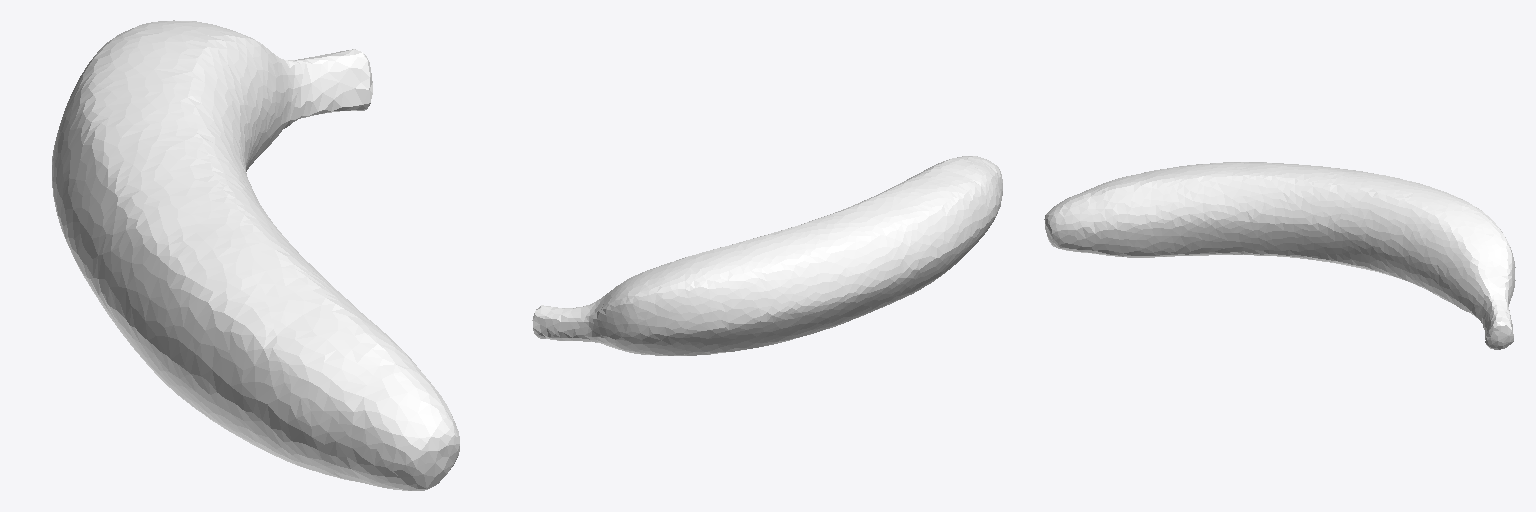
robot.urdf — Tomato_soup_can:
<?xml version="1.0" ?>
<robot name="Tomato_soup_can">
  <link name="Link">

    <inertial>
      <origin rpy="0 0 0" xyz="-0.009936 0.004073 0.017127"/>
       <mass value="0.152"/>

       <inertia ixx="0.00000037471" ixy="-0.00000011072" ixz="0.00000000265"
                iyy="0.00000007747" iyz="-0.00000000222"
                izz="0.00000042654"/>
    </inertial>
    <visual>
      <origin rpy="0 0 0" xyz="0 0 0"/>
      <geometry>
            <mesh filename="textured2.obj" scale="1 1 1"/>
      </geometry>
        <material name="framemat0">
        <color rgba="1 1 1 1"/>
      </material>
    </visual>

    <collision>
      <geometry>
	 	 <mesh filename="textured2.obj" scale="1 1 1"/>
      </geometry>
    </collision>
  </link>
</robot>

--- What the picture shows (computed from the rendered views, not written in the file) ---
The picture shows the robot from 3 angles, left to right: view 1: azimuth 30°, elevation 25°; view 2: azimuth 150°, elevation 25°; view 3: azimuth 270°, elevation 25°; orthographic projection.
Model Tomato_soup_can with 1 links and 0 joints (none), rooted at Link, posed every joint at zero.
Visible links, largest first — view 1: Link; view 2: Link; view 3: Link.
Boxes of the visible links, x1=… form: Link: x1=52, y1=20, x2=459, y2=490; Link: x1=532, y1=156, x2=1002, y2=355; Link: x1=1044, y1=162, x2=1515, y2=349.
Bounding box of the posed robot: 0.1089 × 0.1783 × 0.0368 m (x, y, z).
Meshes: 1 distinct files referenced, 1 mesh visuals loaded (1 OBJ).